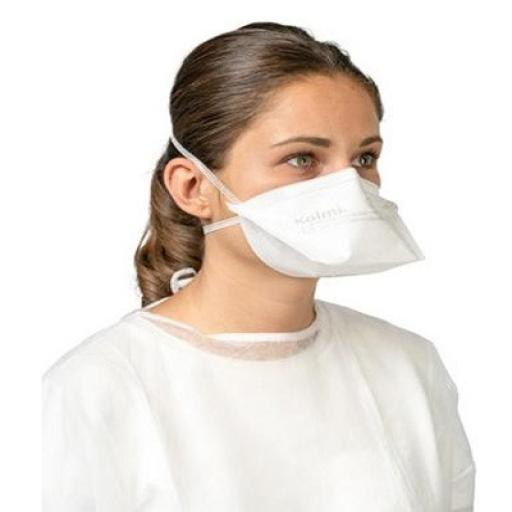mask: (236, 170, 448, 286)
